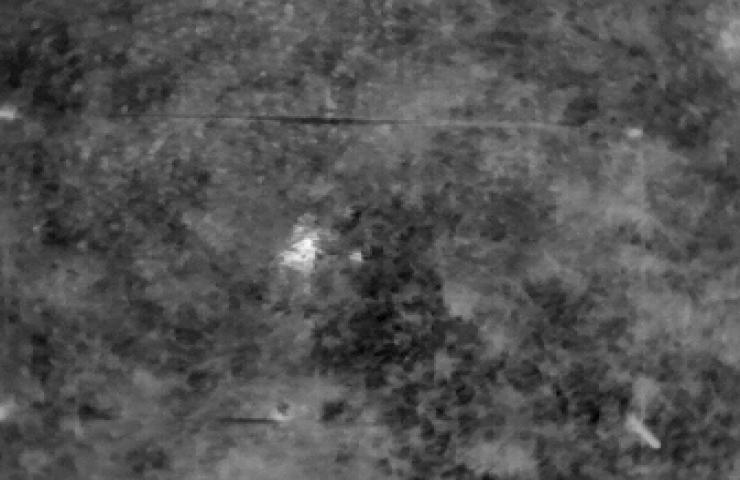landmines: (276, 230, 326, 274)
